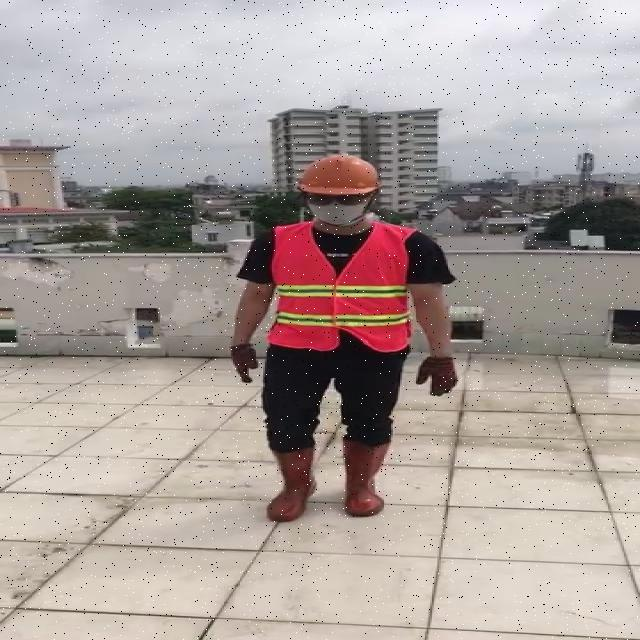Hard_hat: (294, 153, 386, 207)
Vest: (270, 220, 416, 355)
